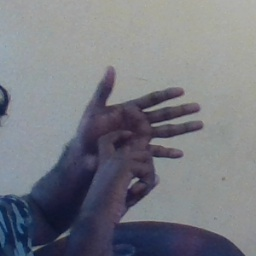R: (67, 62, 208, 215)
